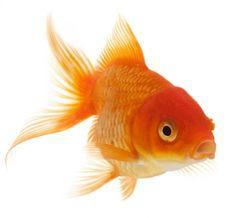goldfish: (55, 40, 226, 190)
